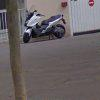Motorcycle: (23, 7, 72, 47)
